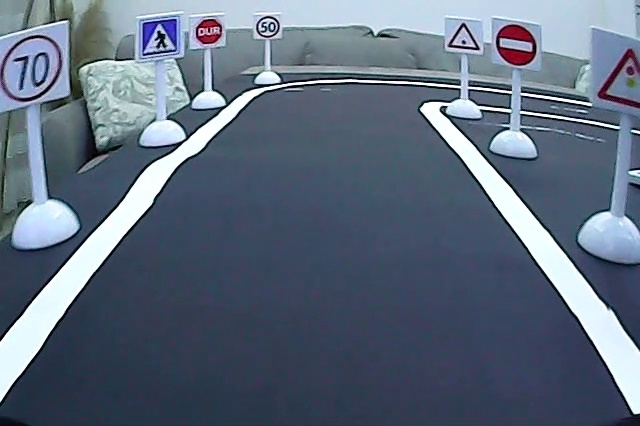do not enter: (493, 20, 538, 69)
green light: (445, 21, 482, 53)
pedestrian crossing: (138, 16, 182, 60)
red light: (595, 42, 640, 112)
speed limit 50: (254, 13, 282, 40)
speed limit 70: (1, 31, 65, 107)
stop sign: (191, 16, 226, 48)
